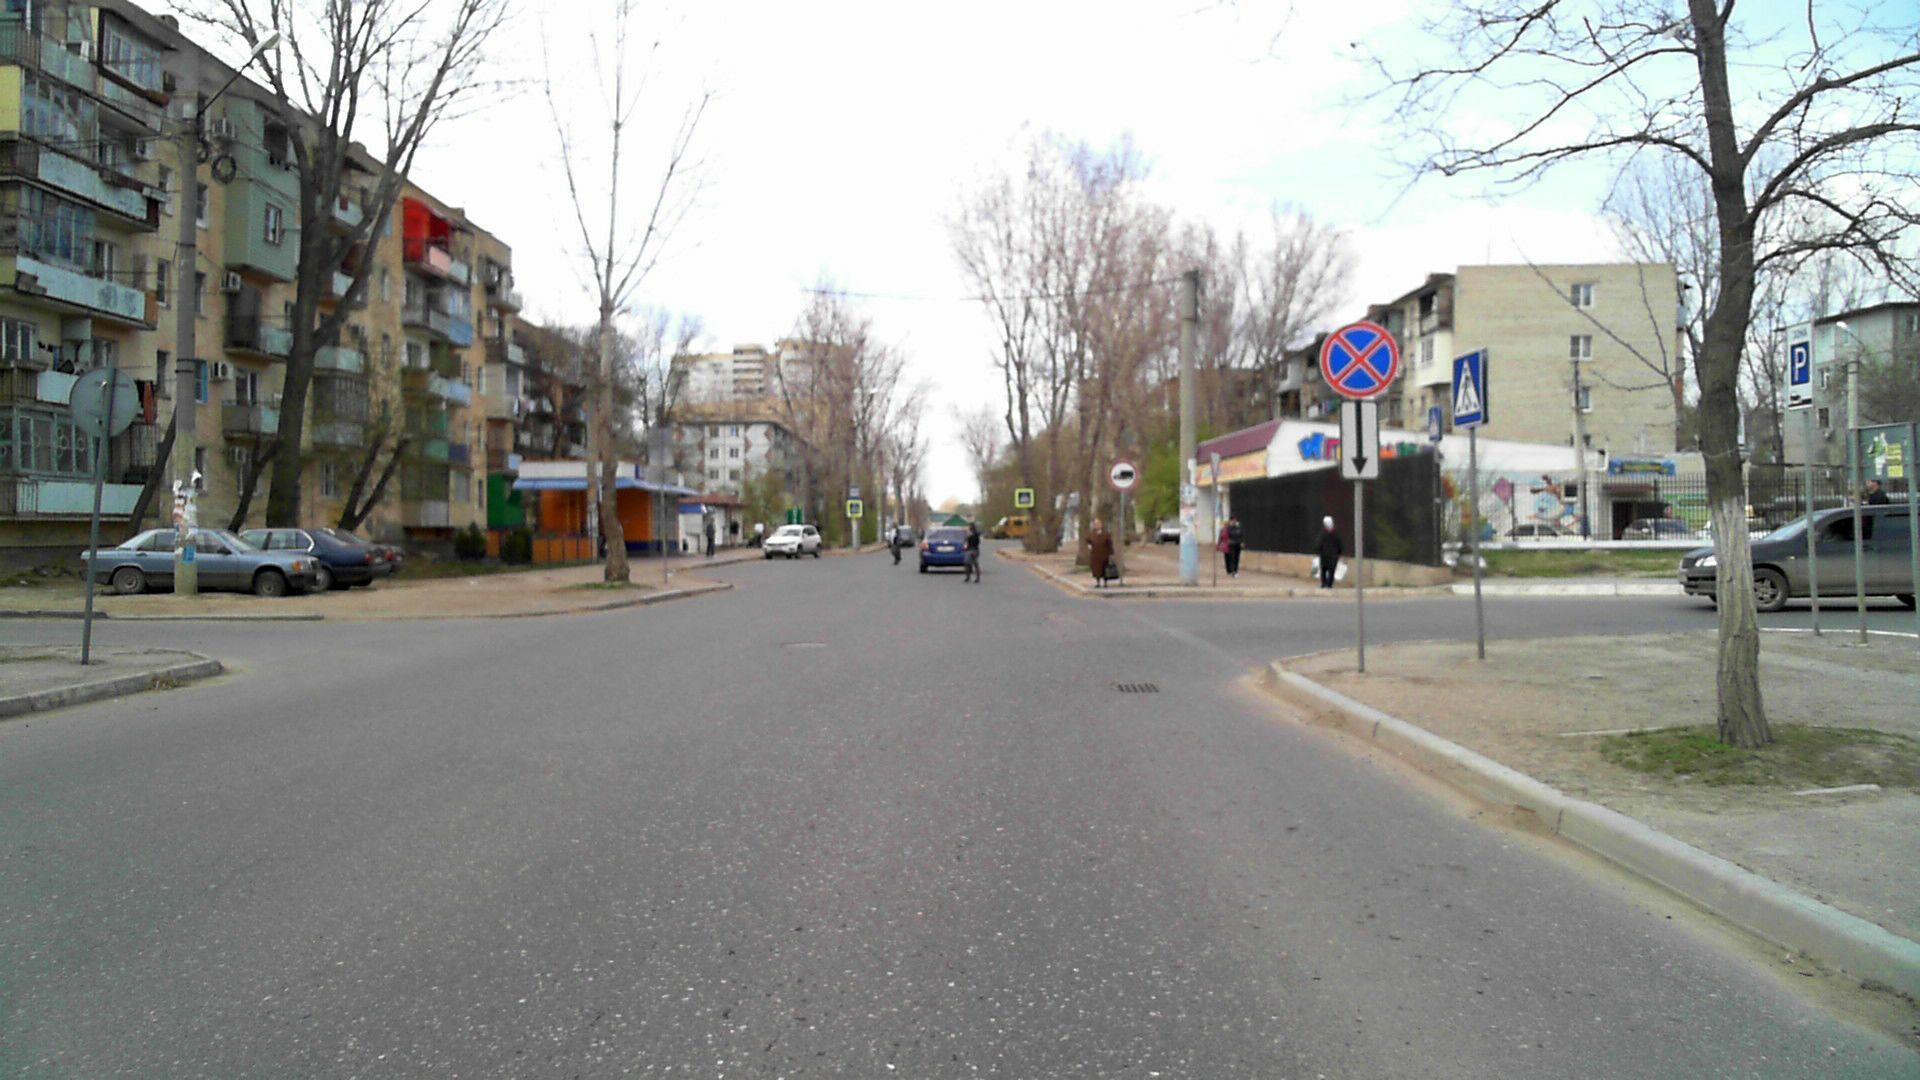2_4: (1207, 451, 1226, 484)
3_27: (1320, 318, 1398, 398)
3_4: (1109, 460, 1138, 493)
5_19_1: (1451, 352, 1486, 423), (1015, 489, 1038, 508)
5_19_2: (848, 498, 862, 518)
6_4: (1788, 343, 1812, 388)
8_2_3: (1337, 396, 1382, 483)
8_6_5: (1788, 390, 1812, 406)
